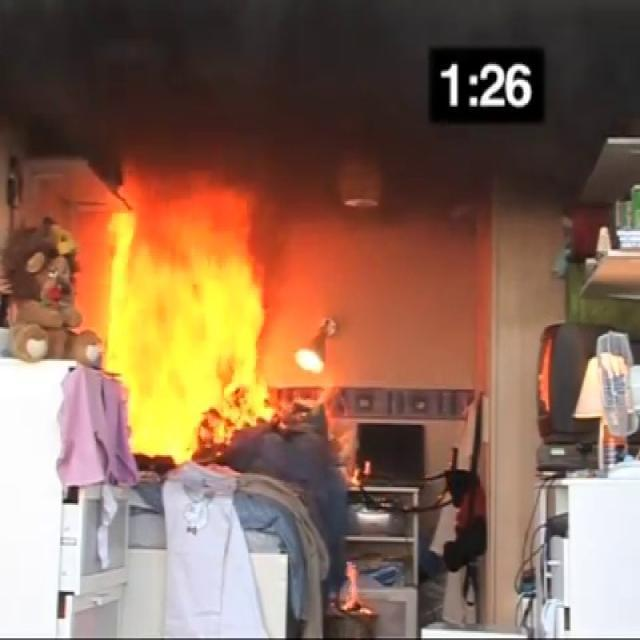Fire: (48, 172, 293, 468)
Smoke: (0, 0, 434, 176)
